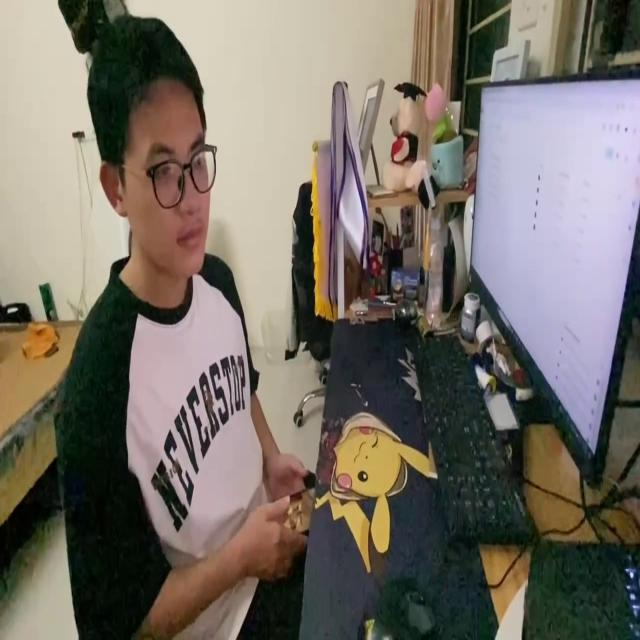laptop: (464, 62, 640, 496)
phone: (263, 479, 315, 535)
student: (51, 15, 310, 640)
